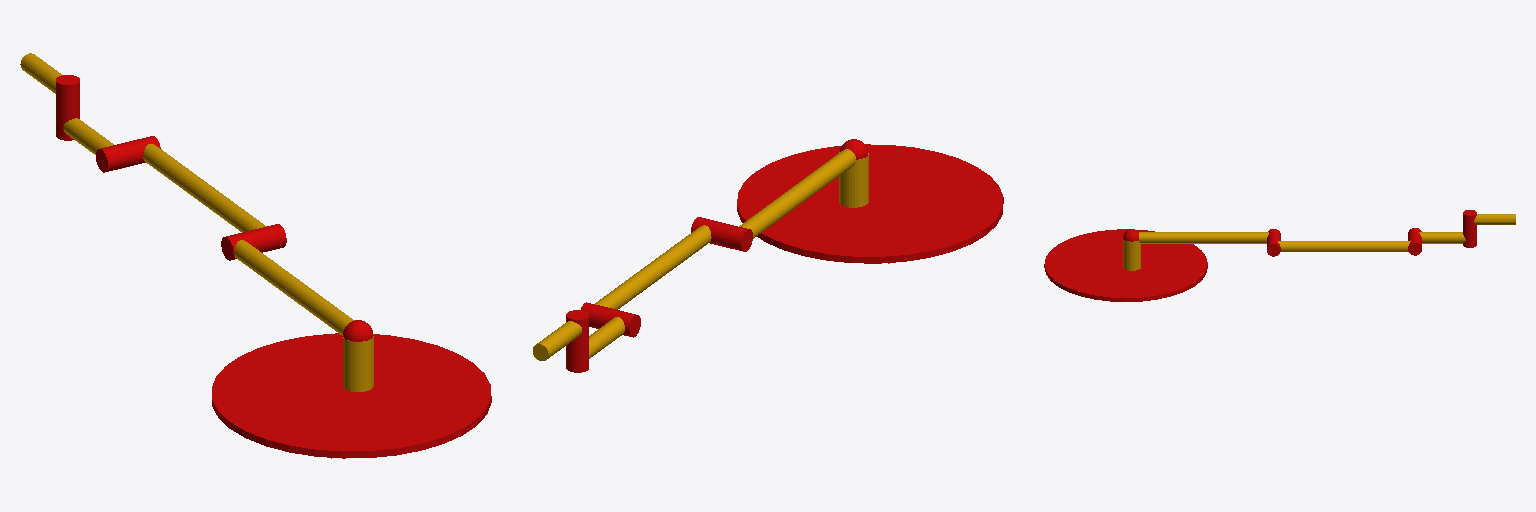
robot.urdf — KillerRover2000:
<?xml version="1.0"?>

<robot name="KillerRover2000">
  
  <!-- *************************************************** -->
  <!-- ***************** Kinematic Chain ***************** -->
  <!-- *************************************************** -->
  <!-- Note the 'origin' tag in the joints defines the
       shift and reorientation before the continuous joint
       rotates around the 'axis'. -->


  <!-- Locate the base plate at the world origin. -->
  <joint name="place" type="fixed">
    <parent link="world"/>
    <child  link="baseplate"/>
    <origin xyz="0 0 0" rpy="0 0 0"/>
  </joint>

  <!-- Shift across the base plate to the base motor. -->
  <joint name="baseplate" type="fixed">
    <parent link="baseplate"/>
    <child  link="motor0"/>
    <origin xyz="0 0 0" rpy="0 0 0"/>
  </joint>

  <!-- Motor0 -->
  <joint name="theta0" type="continuous">
    <parent link="motor0"/>
    <child  link="basecylinder"/>
    <origin xyz="0 0 0" rpy="0 0 0"/>
    <axis   xyz="0 0 1"/>
  </joint>

  <!-- Base cylinder link -->
  <joint name="basecylinder" type="fixed">
    <parent link="basecylinder"/>
    <child  link="motor1link"/>
    <origin xyz="0 0 0.0127" rpy="0 0 0"/>
  </joint>

  <!-- Link to motor1 -->
  <joint name="motor1link" type="fixed">
    <parent link="motor1link"/>
    <child  link="motor1"/>
    <origin xyz="0.0225 0.017 0.0902" rpy="0 0 0"/>
  </joint>

  <!-- Motor1 -->
  <joint name="theta1" type="continuous">
    <parent link="motor1"/>
    <child  link="motor2link"/>
    <origin xyz="0 0 0" rpy="0 0 0"/>
    <axis   xyz="1 0 0"/>
  </joint>

  <!-- Link to motor2 -->
  <joint name="motor2link" type="fixed">
    <parent link="motor2link"/>
    <child  link="motor2"/>
    <origin xyz="0.0574 0.396 0.0" rpy="0 0 0"/>
  </joint>

  <!-- Motor2 -->
  <joint name="theta2" type="continuous">
    <parent link="motor2"/>
    <child  link="motor3link"/>
    <origin xyz="0 0 0" rpy="0 0 0"/>
    <axis   xyz="1 0 0"/>
  </joint>

  <!-- Link to motor3 -->
  <joint name="motor3link" type="fixed">
    <parent link="motor3link"/>
    <child  link="motor3"/>
    <origin xyz="-0.0574 0.396 0.0" rpy="0 0 0"/>
  </joint>

  <!-- Motor3 -->
  <joint name="theta3" type="continuous">
    <parent link="motor3"/>
    <child  link="motor4link"/>
    <origin xyz="0 0 0" rpy="0 0 0"/>
    <axis   xyz="1 0 0"/>
  </joint>

  <!-- Link to motor4 -->
  <joint name="motor4link" type="fixed">
    <parent link="motor4link"/>
    <child  link="motor4"/>
    <origin xyz="0 0.1535 0.0574" rpy="0 0 0"/>
  </joint>

  <!-- Motor4 -->
  <joint name="theta4" type="continuous">
    <parent link="motor4"/>
    <child  link="tiplink"/>
    <origin xyz="0 0 0" rpy="0 0 0"/>
    <axis   xyz="0 0 1"/>
  </joint>

  <!-- Link to tip -->
  <joint name="tiplink" type="fixed">
    <parent link="tiplink"/>
    <child  link="tip"/>
    <origin xyz="0 0.1275 0" rpy="0 0 0"/>
  </joint>
  
  <!-- *************************************************** -->
  <!-- *************** Visual Link Elements ************** -->
  <!-- *************************************************** -->
  <!-- Note collada .dae files have better color/texture   -->
  <!-- suppport that STL files.                            -->

  <!-- Colors -->
  <material name="wood">  <color rgba="0.82 0.62 0.04 1"/>  </material>
  <material name="hebi">  <color rgba="0.82 0.06 0.06 1"/>  </material>

  <!-- World can't take a visual element (at least in Gazebo). -->
  <link name="world"/>

  <link name="baseplate">
    <visual>
      <origin xyz = "0 0 -0.025" rpy = "0 0 0"/>
      <geometry>
        <box size="0.1778 0.1778 0.05"/>
      </geometry>
      <material name="wood"/>
    </visual>
  </link>

  <link name="motor0">
    <visual>
      <origin xyz = "0 0 0" rpy = "0 0 0"/>
      <geometry>
        <sphere radius="0.000001"/>
      </geometry>
      <material name="hebi"/>
    </visual>
  </link>

  <link name="basecylinder">
    <visual>
      <origin xyz = "0 0 0.00635" rpy = "0 0 0"/>
      <geometry>
        <cylinder length="0.0127" radius="0.2286"/>
      </geometry>
      <material name="hebi"/>
    </visual>
  </link>

  <link name="motor1link">
    <visual>
      <origin xyz = "0.0225 0.017 0.0451" rpy = "0 0 0"/>
      <geometry>
        <cylinder length="0.0902" radius="0.0254"/>
      </geometry>
      <material name="wood"/>
    </visual>
  </link>

  <link name="motor1">
    <visual>
      <origin xyz = "0 0 0" rpy = "0 0 0"/>
      <geometry>
        <sphere radius="0.025"/>
      </geometry>
      <material name="hebi"/>
    </visual>
  </link>

  <link name="motor2link">
    <visual>
      <origin xyz = "0 0.198 0" rpy = "1.5708 0 0"/>
      <geometry>
        <cylinder length="0.396" radius="0.016"/>
      </geometry>
      <material name="wood"/>
    </visual>
  </link>

  <link name="motor2">
    <visual>
      <origin xyz = "-0.025 0 0" rpy = "0 1.5708 0"/>
      <geometry>
        <cylinder length="0.1" radius="0.02"/>
      </geometry>
      <material name="hebi"/>
    </visual>
  </link>

  <link name="motor3link">
    <visual>
      <origin xyz = "0 0.198 0" rpy = "1.5708 0 0"/>
      <geometry>
        <cylinder length="0.396" radius="0.016"/>
      </geometry>
      <material name="wood"/>
    </visual>
  </link>

  <link name="motor3">
    <visual>
      <origin xyz = "0.025 0 0" rpy = "0 1.5708 0"/>
      <geometry>
        <cylinder length="0.1" radius="0.02"/>
      </geometry>
      <material name="hebi"/>
    </visual>
  </link>

  <link name="motor4link">
    <visual>
      <origin xyz = "0 0.07675 0" rpy = "1.5708 0 0"/>
      <geometry>
        <cylinder length="0.1535" radius="0.016"/>
      </geometry>
      <material name="wood"/>
    </visual>
  </link>

  <link name="motor4">
    <visual>
      <origin xyz = "0 0 -0.03" rpy = "0 0 0"/>
      <geometry>
        <cylinder length="0.1" radius="0.02"/>
      </geometry>
      <material name="hebi"/>
    </visual>
  </link>
  
  <link name="tiplink">
    <visual>
      <origin xyz = "0 0.06375 0" rpy = "1.5708 0 0"/>
      <geometry>
        <cylinder length="0.1275" radius="0.016"/>
      </geometry>
      <material name="wood"/>
    </visual>
  </link>

  <link name="tip"/>

</robot>

--- What the picture shows (computed from the rendered views, not written in the file) ---
Views: 3 orthographic renders of the robot side by side, from view 1: azimuth 30°, elevation 25°; view 2: azimuth 150°, elevation 25°; view 3: azimuth 270°, elevation 25°.
Model KillerRover2000 with 14 links and 13 joints (5 continuous, 8 fixed), rooted at world, posed all joints at 0.
Visible links, largest first — view 1: basecylinder, motor2link, motor3link, motor1link, motor3, motor4, motor2, motor4link, tiplink; view 2: basecylinder, motor2link, motor3link, motor1link, motor2, motor4, motor3, tiplink, motor4link; view 3: basecylinder, motor2link, motor3link.
Link boxes in pixels (x1,y1,x2,y2): basecylinder: (212, 333, 491, 458); motor2link: (234, 240, 354, 335); motor3link: (143, 144, 266, 231); motor1link: (343, 334, 373, 391); motor3: (96, 136, 160, 172); motor4: (56, 75, 79, 140); motor2: (221, 224, 286, 260); motor4link: (63, 118, 113, 154); tiplink: (20, 53, 61, 93); basecylinder: (737, 144, 1003, 263); motor2link: (739, 149, 855, 238); motor3link: (595, 225, 711, 309); motor1link: (839, 152, 868, 207); motor2: (691, 217, 752, 251); motor4: (566, 310, 588, 372); motor3: (581, 302, 640, 337); tiplink: (533, 321, 581, 360); motor4link: (589, 317, 624, 358); basecylinder: (1044, 229, 1207, 301); motor2link: (1139, 232, 1268, 243); motor3link: (1278, 241, 1410, 251).
Bounding box of the posed robot: 0.4572 × 1.32 × 0.2303 m (x, y, z).
Geometry: primitives only (box / cylinder / sphere), no mesh files.